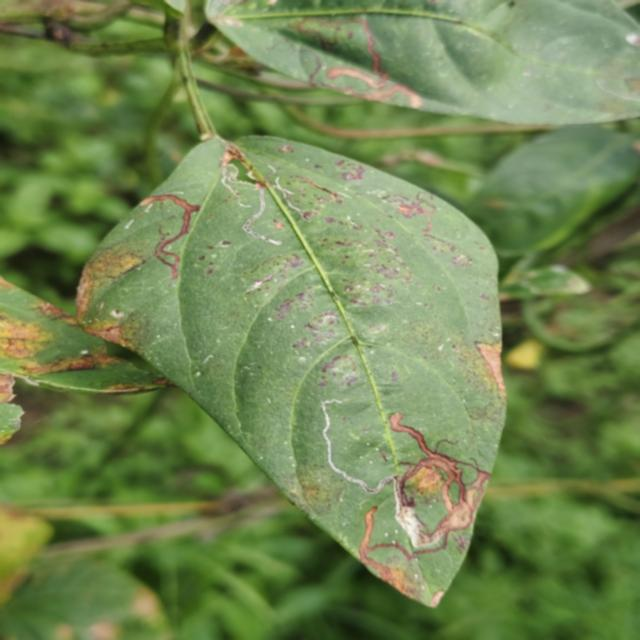leaf-healthy: (77, 136, 506, 608)
